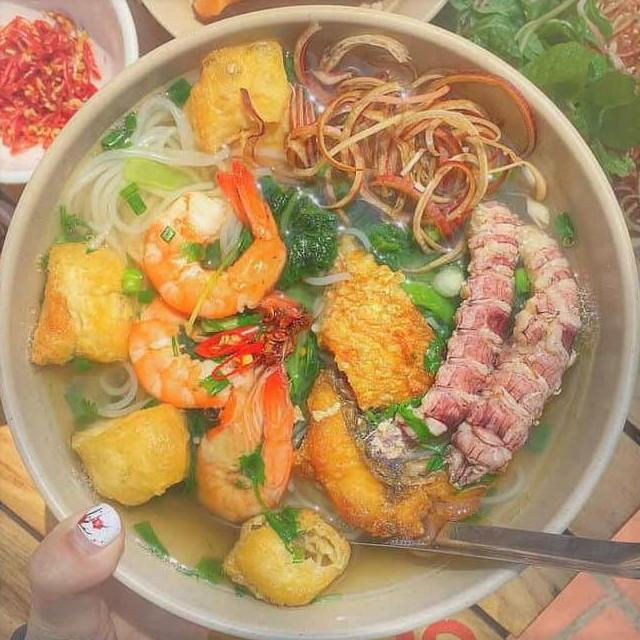bun: (52, 90, 236, 255)
bun hai san: (3, 32, 631, 640)
ca: (294, 362, 494, 553)
dau hu: (178, 37, 304, 175), (22, 238, 142, 376), (212, 505, 356, 611), (68, 395, 198, 512)
tom: (122, 275, 316, 416), (134, 153, 290, 323), (187, 360, 300, 532)
tom tit: (362, 188, 526, 464), (440, 216, 588, 492)
